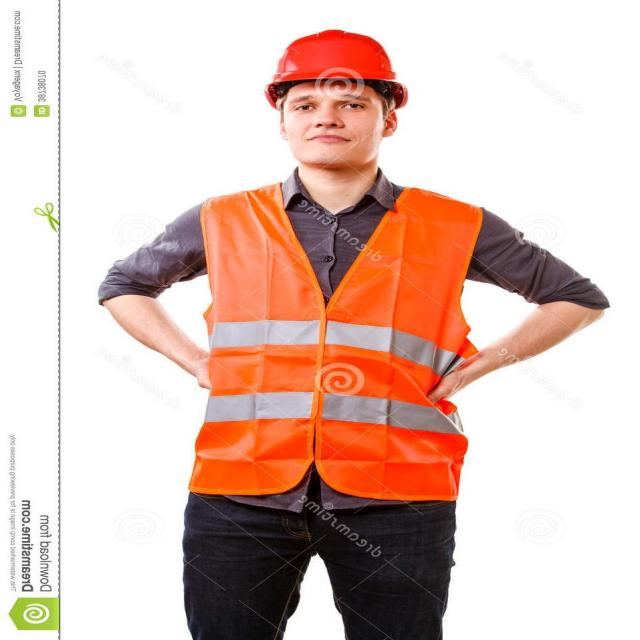Reflective-Jacket: (184, 182, 483, 501)
Safety-Helmet: (260, 26, 412, 100)
